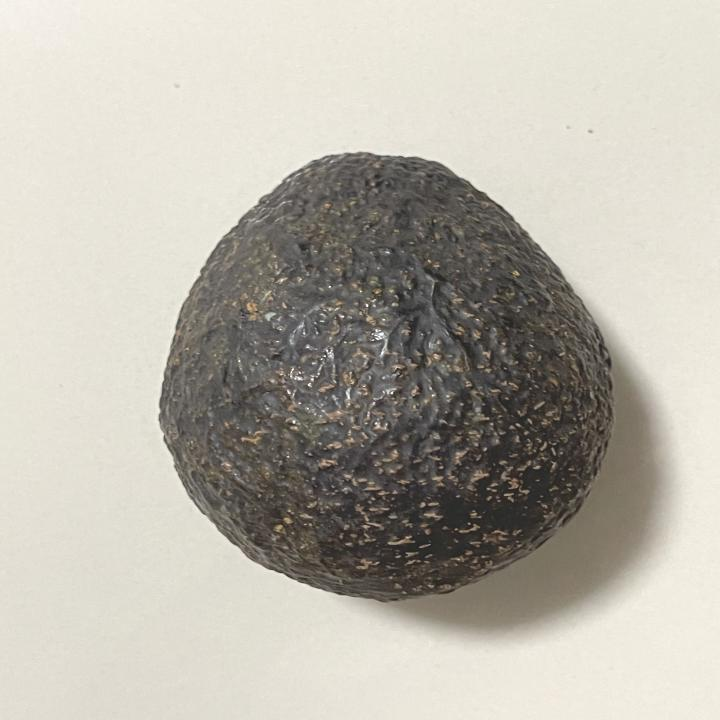Level2: (151, 146, 622, 608)
